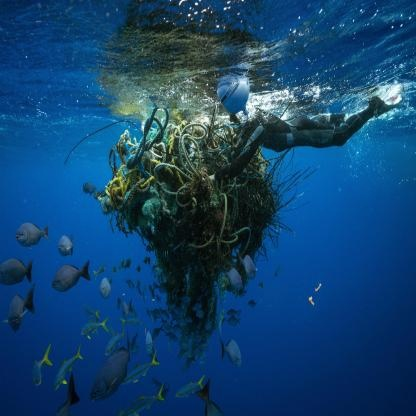net: (107, 124, 278, 310)
